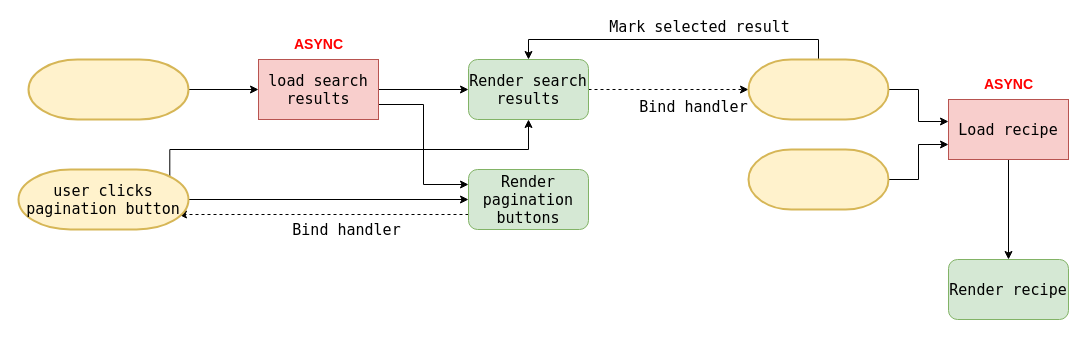
Some shapes in this 1086 by 337 pixel diagram are drawn without their labels. Each missing label, with the centre of its shape:
"Page loads with recipe ID" belongs at point (818, 179).
"user searches" belongs at point (108, 89).
"user selects recipe" belongs at point (818, 89).
